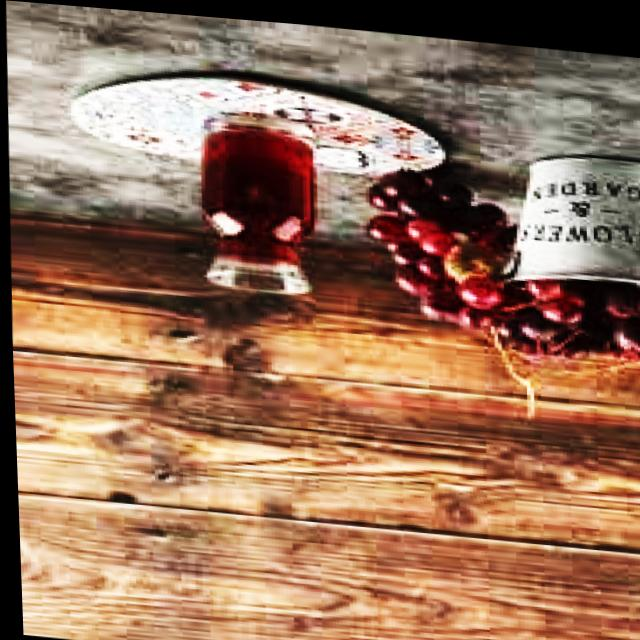drink: (186, 105, 326, 297)
